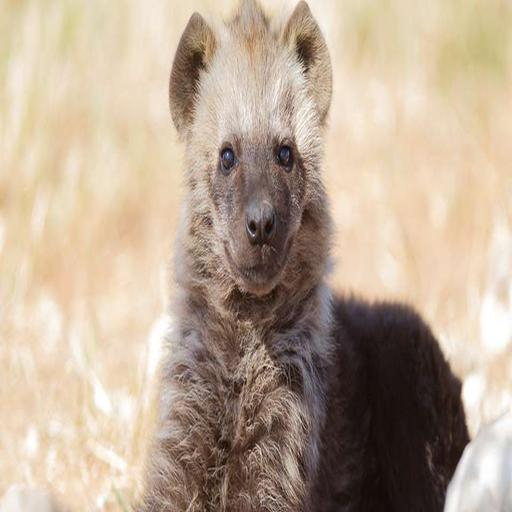Hyena: (133, 0, 388, 512)
